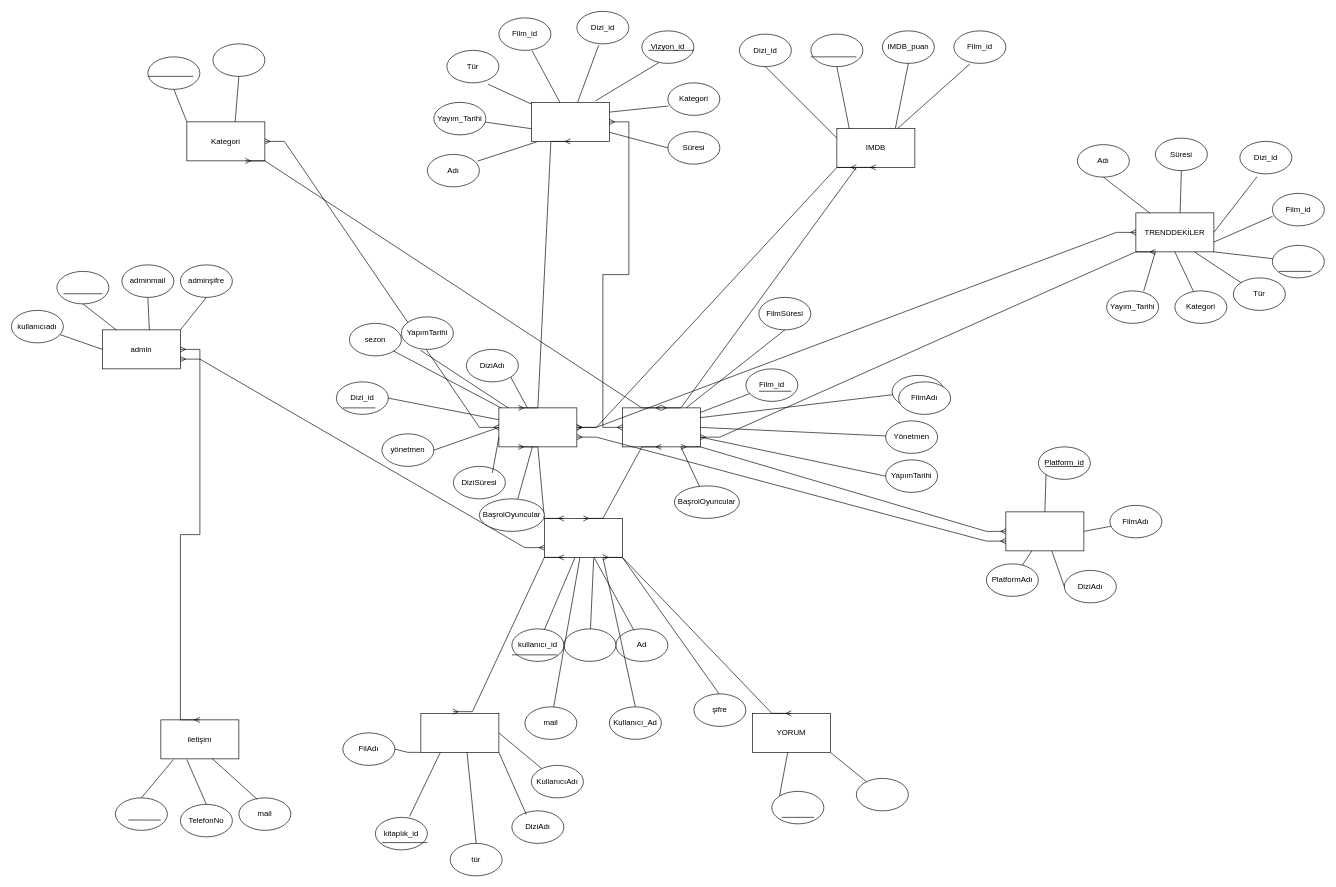
Image size: 1336x887. Some labels were removed from this diagram. Each missing label, with the box of its shape:
admin_id: (56, 271, 109, 304)
DİZİ: (498, 407, 577, 447)
FİLM: (622, 407, 700, 447)
iletişim_id: (115, 797, 167, 830)
IMDB_id: (810, 33, 863, 67)
kategori_id: (147, 56, 200, 89)
kategoriadı: (212, 43, 265, 76)
Kitaplık: (420, 713, 499, 752)
Kullanıcı: (544, 518, 622, 557)
PLATFORM: (1005, 511, 1084, 551)
puan: (856, 778, 908, 811)
Soyad: (563, 628, 616, 661)
Trend_id: (1272, 245, 1324, 278)
VİZYONDAKİLER: (531, 102, 609, 141)
yorum_id: (771, 791, 824, 824)
